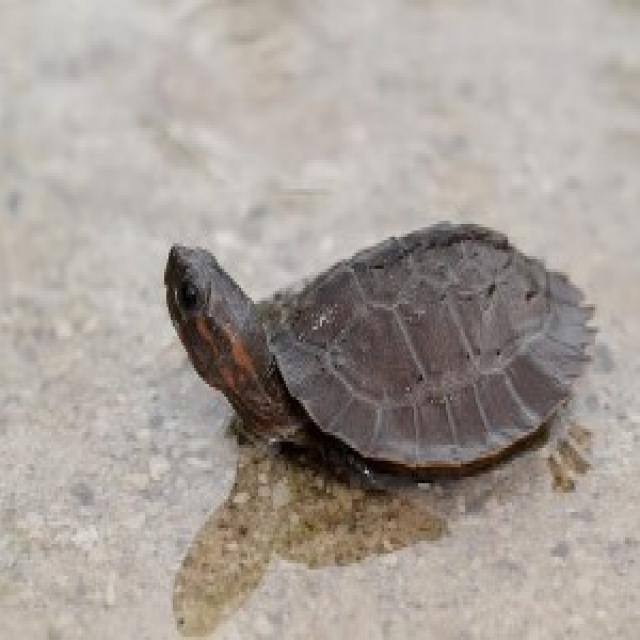Sea turtle: (143, 228, 609, 514)
